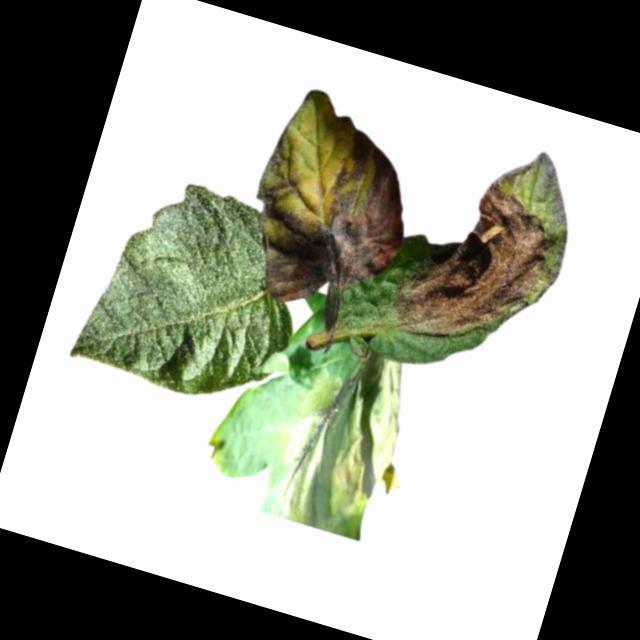Late_blight: (226, 80, 438, 330), (386, 121, 592, 368), (266, 340, 433, 549)
healthy: (67, 164, 327, 420)
